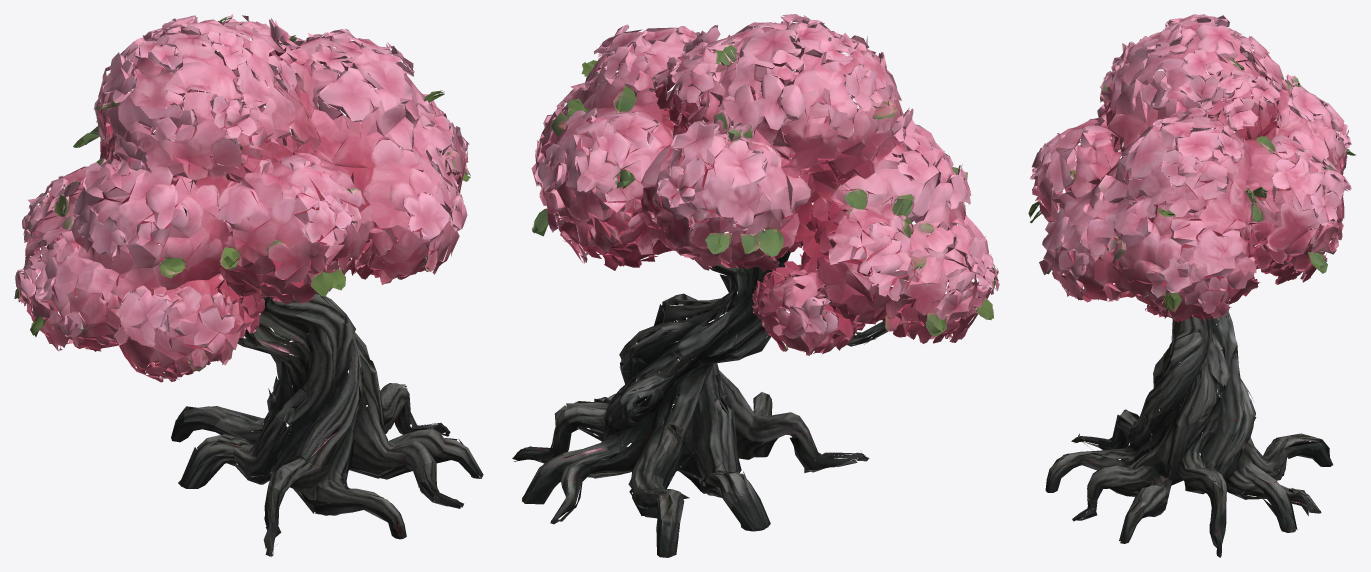
The model's file is blossom_tree.glb.
3 renders of one model, left to right at view 1: azimuth 30°, elevation 25°; view 2: azimuth 150°, elevation 25°; view 3: azimuth 270°, elevation 25°, orthographic. The views are drawn at different scales.
Visible parts, largest first — view 1: Mesh_0; view 2: Mesh_0; view 3: Mesh_0.
Boxes of the visible parts, left/top/right/bottom form: Mesh_0: left=14, top=14, right=483, bottom=556; Mesh_0: left=512, top=14, right=999, bottom=557; Mesh_0: left=1028, top=14, right=1355, bottom=557.
Bounding box in the file's own units: 9.16 × 9.5 × 6.7.
1 material, 1 textured.
